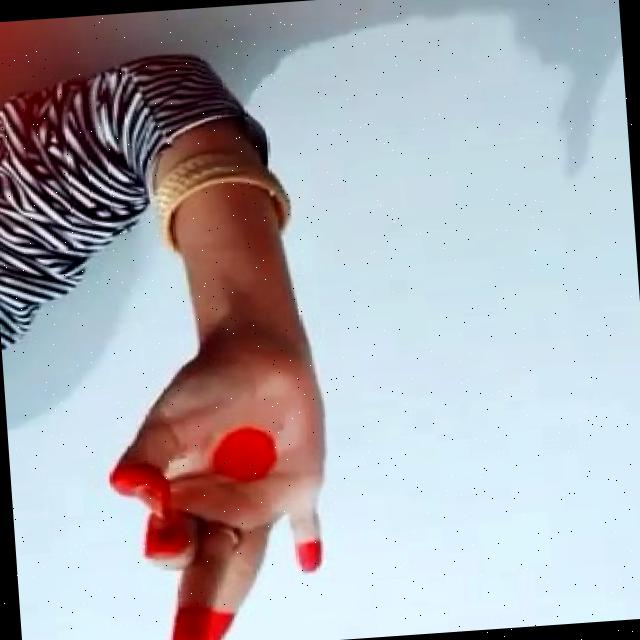Hamsasya: (68, 337, 365, 640)
bangle: (129, 140, 311, 257)
